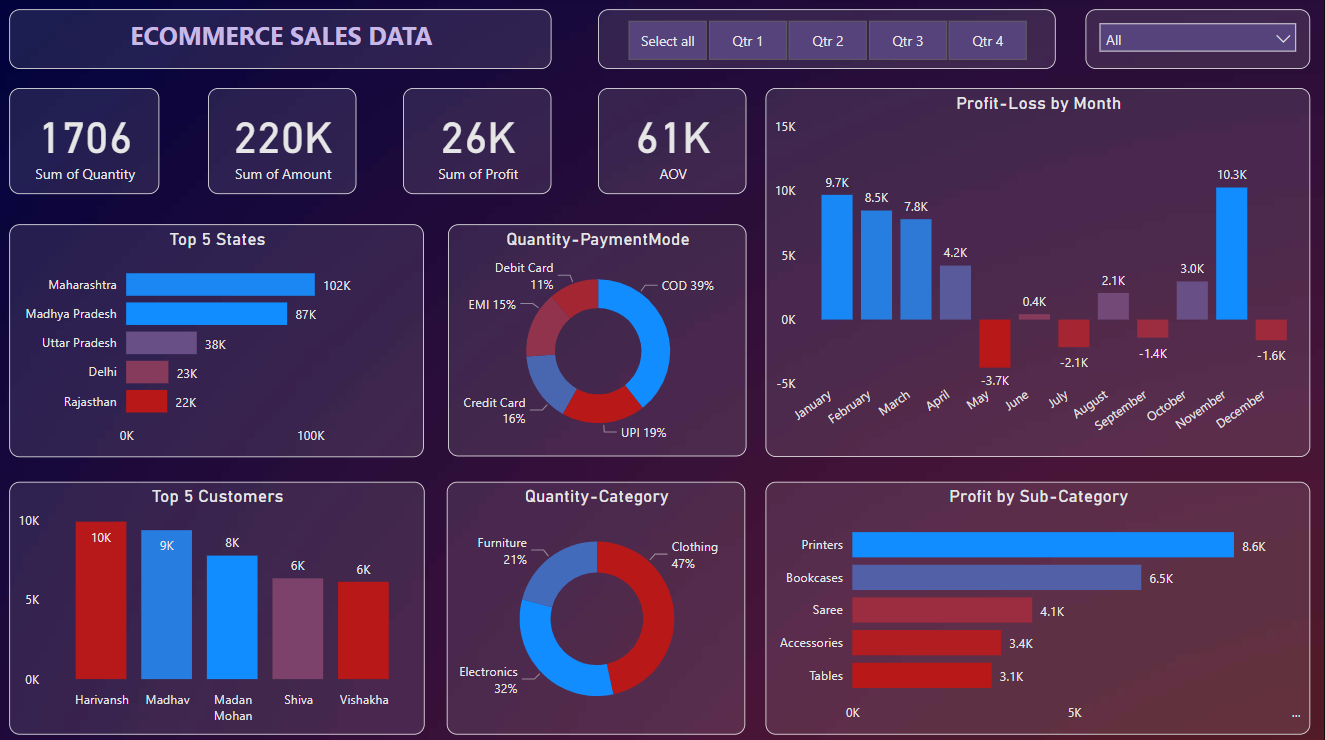

Layout of this report page (visuals, bound fields, positions):
{"tool":"powerbi","page":{"name":"Page 1","canvas":[1280,720],"ordinal":0},"visuals":[{"type":"columnChart","title":"Profit-Loss by Month","fields":{"Category":["Orders.Order Date.Variation.Date Hierarchy.Month"],"Y":["Details.Profit"]},"box":[740.5,86.8,525.8,355.8],"z":0},{"type":"barChart","title":"Profit by Sub-Category","fields":{"Category":["Details.Sub-Category"],"Y":["Details.Profit"]},"box":[740.5,466.7,525.8,243.6],"z":1000},{"type":"donutChart","title":"Quantity-Category","fields":{"Category":["Details.Category"],"Y":["Details.Quantity"]},"box":[433,466.7,288.2,243.6],"z":2000},{"type":"donutChart","title":"Quantity-PaymentMode","fields":{"Y":["Details.Quantity"],"Category":["Details.PaymentMode"]},"box":[434.2,218.3,288.2,224.3],"z":3000},{"type":"card","title":"Quantity-PaymentMode","fields":{"Values":["Details.Quantity"]},"box":[10.9,86.8,144.7,102.5],"z":4000},{"type":"card","title":"Quantity-PaymentMode","fields":{"Values":["Details.Amount"]},"box":[202.6,86.8,143.5,102.5],"z":5000},{"type":"card","title":"Quantity-PaymentMode","fields":{"Values":["Details.Profit"]},"box":[390.8,86.8,143.5,102.5],"z":6000},{"type":"card","title":"Quantity-PaymentMode","fields":{"Values":["Details.AOV"]},"box":[578.9,86.8,143.5,102.5],"z":7000},{"type":"barChart","title":"Top 5 States","fields":{"Category":["Orders.State"],"Y":["Details.Amount"]},"box":[11,218,400.3,224.9],"z":8000},{"type":"columnChart","title":"Top 5 Customers","fields":{"Category":["Orders.CustomerName"],"Y":["Details.Amount"]},"box":[10.9,466.7,400.4,243.6],"z":9000},{"type":"textbox","box":[10.9,10.9,523.4,57.9],"z":10000},{"type":"slicer","fields":{"Values":["Orders.Order Date.Variation.Date Hierarchy.Quarter"]},"box":[578.9,10.9,441.4,57.9],"z":11000},{"type":"slicer","fields":{"Values":["Orders.State"]},"box":[1049.2,10.9,217.1,57.9],"z":12000}]}

Visuals, with their boxes in screenshot pixels (x1, y1, x2, y2), scaled from the page's 1280x720 canvas onto the 1325x740 screenshot:
"Profit-Loss by Month" columnChart: Rect(767, 89, 1311, 455)
"Profit by Sub-Category" barChart: Rect(767, 480, 1311, 730)
"Quantity-Category" donutChart: Rect(448, 480, 747, 730)
"Quantity-PaymentMode" donutChart: Rect(449, 224, 748, 455)
"Quantity-PaymentMode" card: Rect(11, 89, 161, 195)
"Quantity-PaymentMode" card: Rect(210, 89, 358, 195)
"Quantity-PaymentMode" card: Rect(405, 89, 553, 195)
"Quantity-PaymentMode" card: Rect(599, 89, 748, 195)
"Top 5 States" barChart: Rect(11, 224, 426, 455)
"Top 5 Customers" columnChart: Rect(11, 480, 426, 730)
textbox: Rect(11, 11, 553, 71)
slicer - Orders.Order Date.Variation.Date Hierarchy.Quarter: Rect(599, 11, 1056, 71)
slicer - Orders.State: Rect(1086, 11, 1311, 71)
